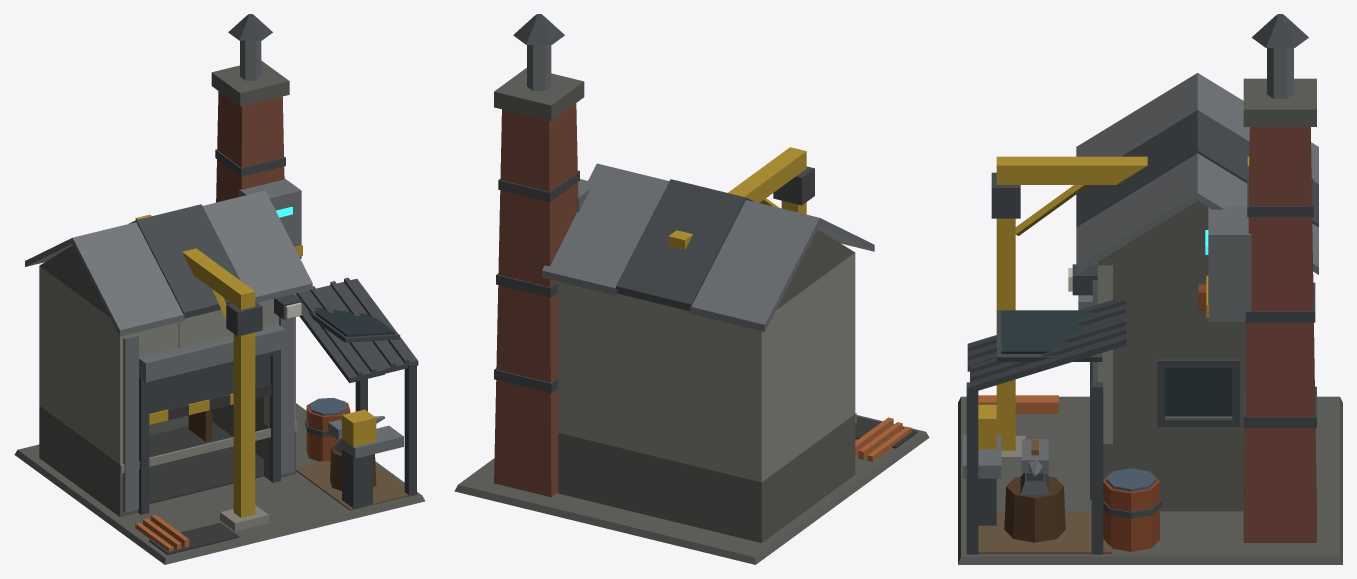
The model's file is workshop_l3.glb.
3 views of the same model, side by side, from view 1: azimuth 30°, elevation 25°; view 2: azimuth 150°, elevation 25°; view 3: azimuth 270°, elevation 25° (orthographic). The views are drawn at different scales.
Visible parts, largest first — view 1: workshop_structure, workshop_props, workshop_roof; view 2: workshop_structure, workshop_roof, workshop_props; view 3: workshop_structure, workshop_props, workshop_roof.
Part boxes in pixels (bbox=[...]): workshop_structure: bbox=[14, 60, 425, 564]; workshop_props: bbox=[120, 14, 403, 551]; workshop_roof: bbox=[25, 190, 418, 383]; workshop_structure: bbox=[454, 68, 929, 564]; workshop_roof: bbox=[542, 163, 874, 331]; workshop_props: bbox=[513, 14, 911, 461]; workshop_structure: bbox=[958, 78, 1342, 564]; workshop_props: bbox=[963, 14, 1308, 551]; workshop_roof: bbox=[967, 73, 1318, 393].
Size of the model in its own units: 4 by 5.95 by 4.
